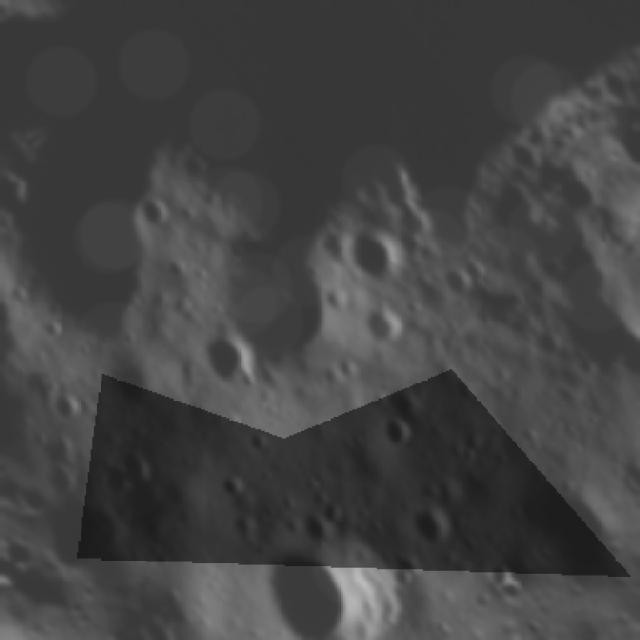crater: (194, 198, 388, 394), (233, 489, 429, 640), (535, 259, 640, 416), (0, 190, 71, 402), (500, 441, 618, 554), (183, 311, 271, 403), (335, 207, 422, 296), (92, 331, 170, 411), (399, 484, 470, 556), (350, 287, 413, 355), (492, 126, 554, 189), (128, 180, 188, 242), (85, 441, 143, 501), (0, 150, 46, 224), (366, 406, 423, 462), (450, 235, 505, 292), (12, 113, 72, 162), (108, 436, 160, 490), (431, 252, 483, 306), (288, 497, 339, 549), (40, 375, 91, 427), (376, 539, 426, 592), (208, 458, 257, 508), (234, 417, 278, 461), (312, 487, 354, 530), (476, 548, 518, 590), (329, 345, 369, 387), (35, 308, 70, 347), (611, 444, 640, 488), (629, 236, 640, 278), (252, 635, 294, 640)
